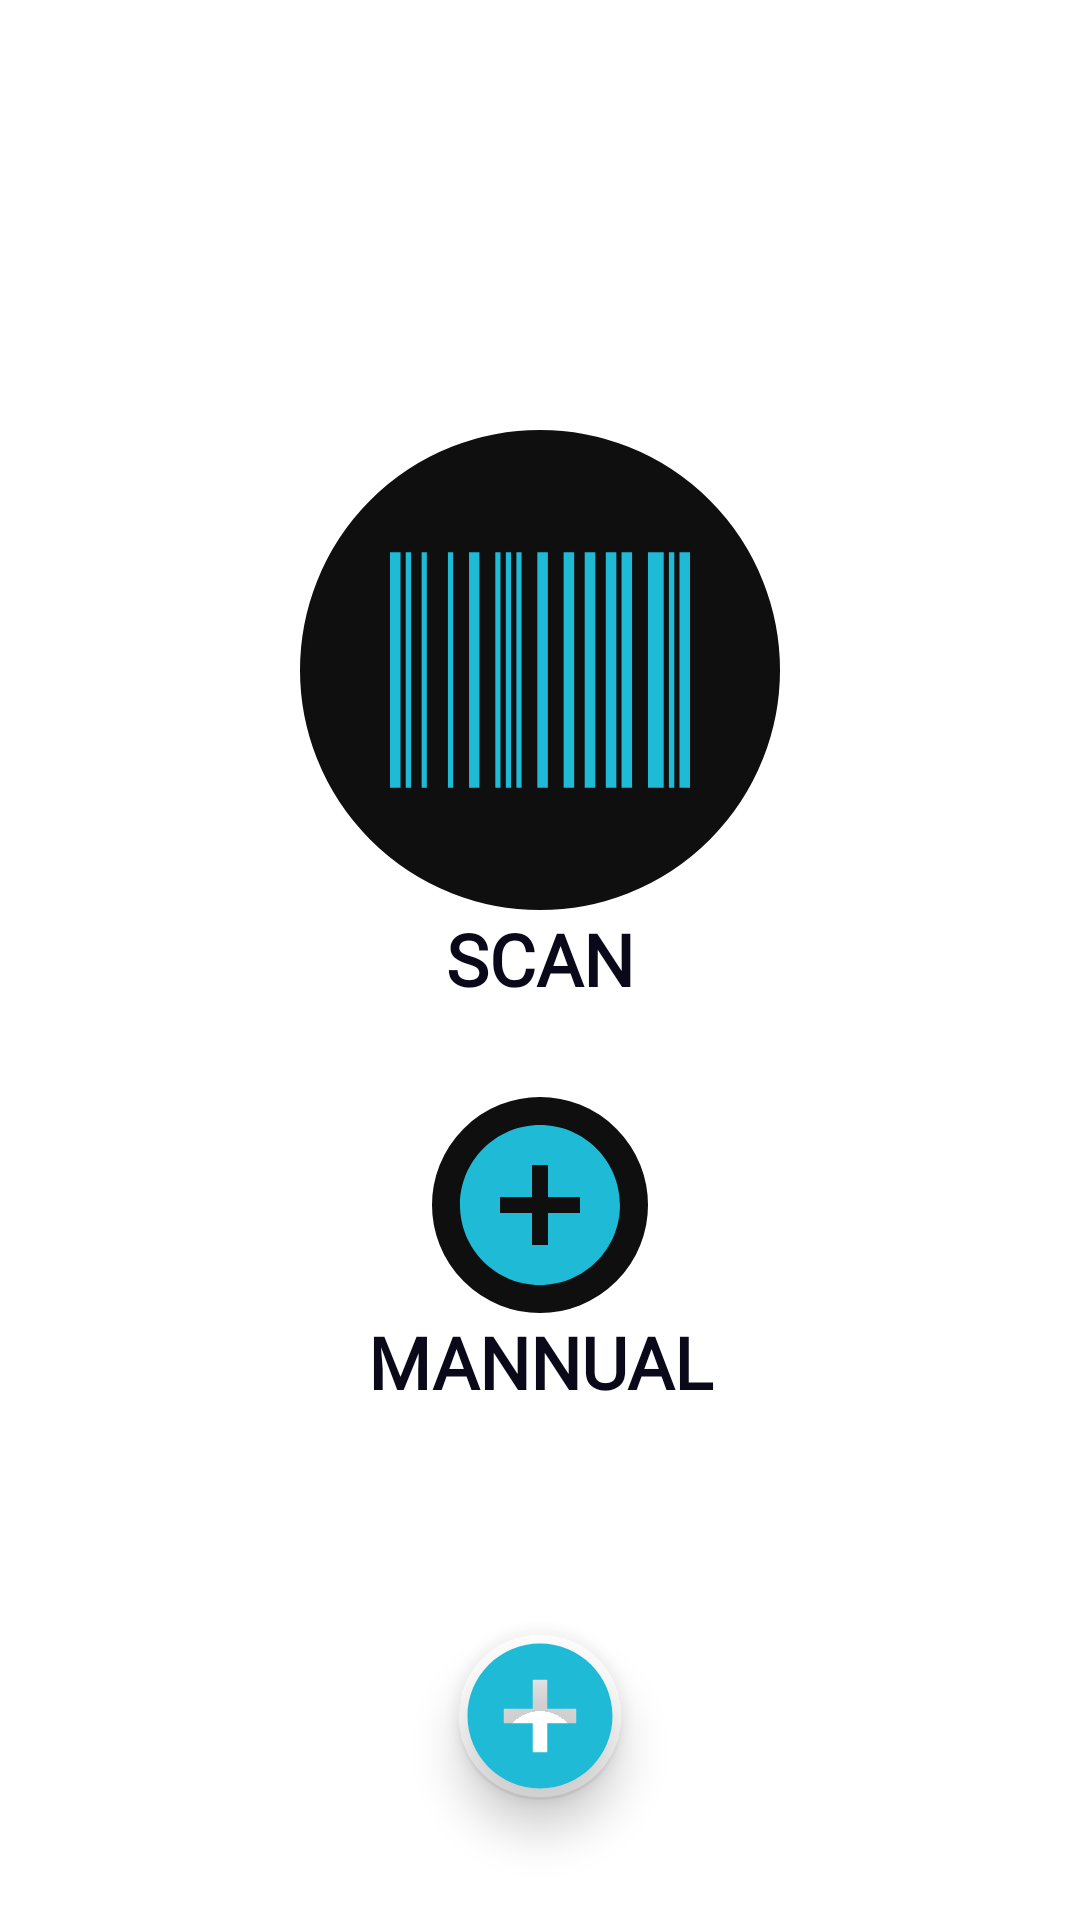

Icons on this 1080 × 1920 Android screen, each with its box as [x1=x1, y1=y1, x2=x2, y2=y2]:
add mark: [x1=432, y1=1097, x2=648, y2=1313], [x1=457, y1=1643, x2=623, y2=1800]
